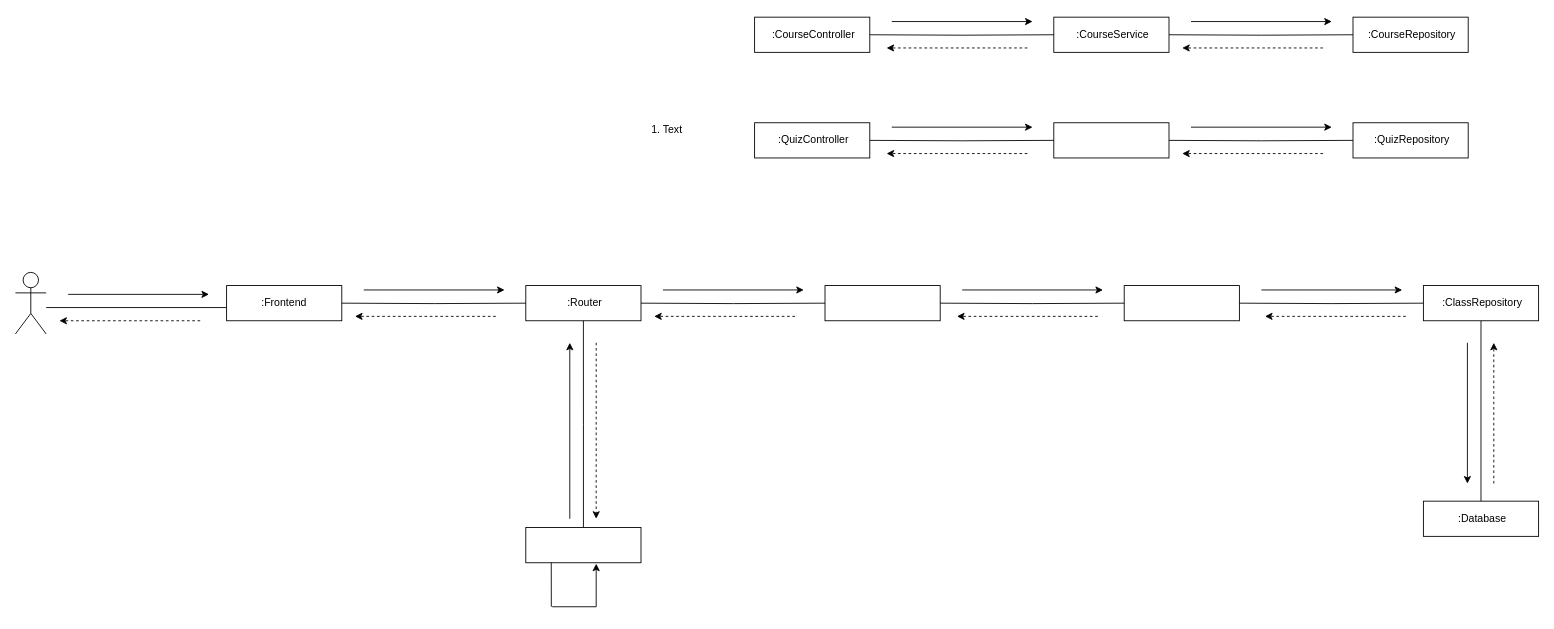
This 1554x629 diagram has some shape labels left out. Each missing label, with the centre of its shape:
:ClassController: the point at 882,303
:ClassService: the point at 1181,303
:Middleware: the point at 583,545
:QuizService: the point at 1111,140
User: the point at 30,302
